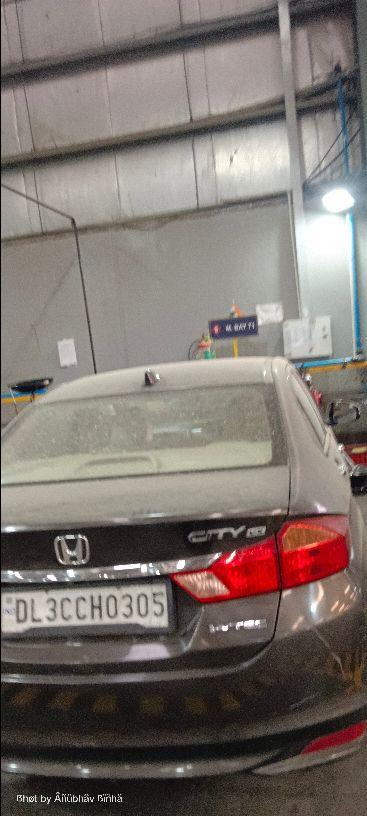license_plate: (1, 574, 176, 638)
